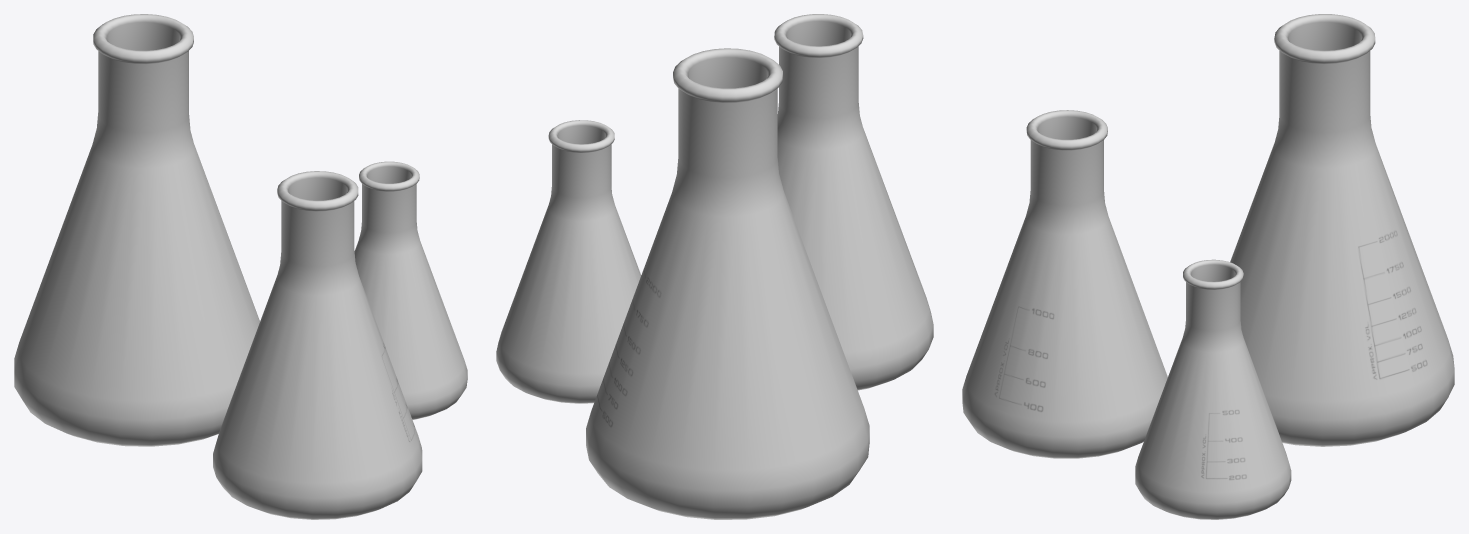
The model's file is free_conical_flask__laboratory__low_poly.glb.
3 views of the same model, side by side, from view 1: azimuth 30°, elevation 25°; view 2: azimuth 150°, elevation 25°; view 3: azimuth 270°, elevation 25° (orthographic). The views are drawn at different scales.
Parts seen in each view (by area): view 1: Conical_flask_big, Conical_flask_mid, Conical_flask_small; view 2: Conical_flask_big, Conical_flask_mid, Conical_flask_small; view 3: Conical_flask_big, Conical_flask_mid, Conical_flask_small.
Part boxes in pixels (x1,y1,x2,y2): Conical_flask_big: (14,14,259,446); Conical_flask_mid: (213,171,422,519); Conical_flask_small: (354,161,467,419); Conical_flask_big: (586,48,869,519); Conical_flask_mid: (774,14,933,390); Conical_flask_small: (496,120,641,403); Conical_flask_big: (1230,14,1454,446); Conical_flask_mid: (962,110,1167,458); Conical_flask_small: (1135,259,1291,519).
Bounding box in the file's own units: 0.34 × 0.3226 × 0.392.
Materials: 4 (3 with a texture image).
